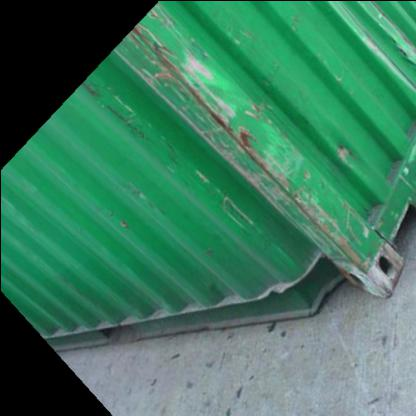Damage: (128, 16, 287, 161), (209, 187, 392, 262), (332, 127, 362, 160)
